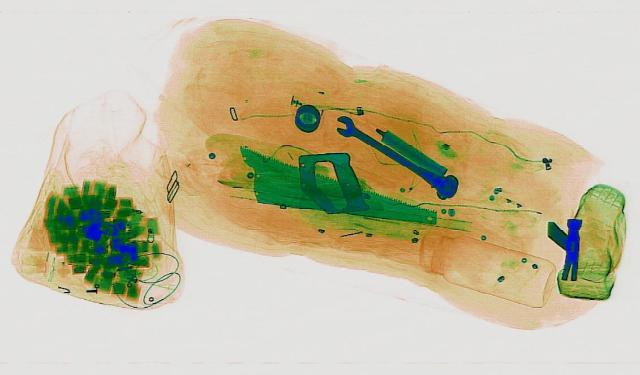Pliers: (559, 227, 583, 280)
Wrench: (315, 111, 475, 200)
